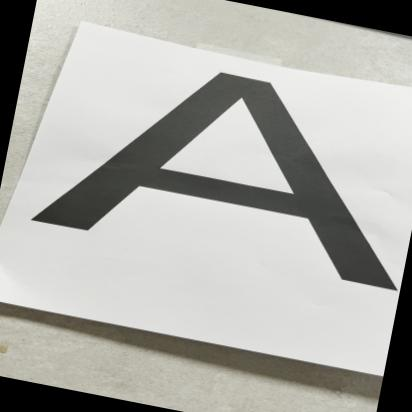seat: (21, 42, 412, 370)
